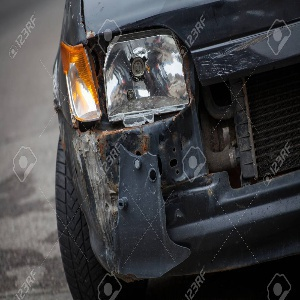bumper_scratch: (100, 106, 208, 172)
